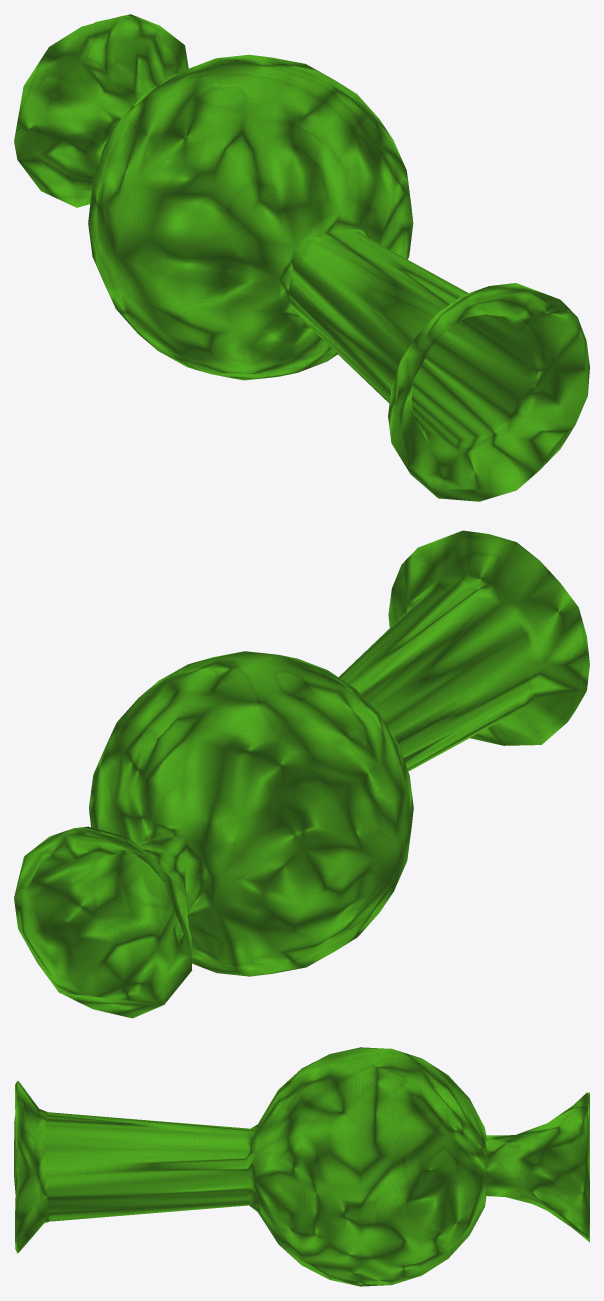
Rendered from model_align.obj.
3 views of the same model, one above another, from view 1: azimuth 30°, elevation 25°; view 2: azimuth 150°, elevation 25°; view 3: azimuth 270°, elevation 25° (orthographic). The views are drawn at different scales.
Bounding box in the file's own units: 0.0919 × 0.0919 × 0.2206.
